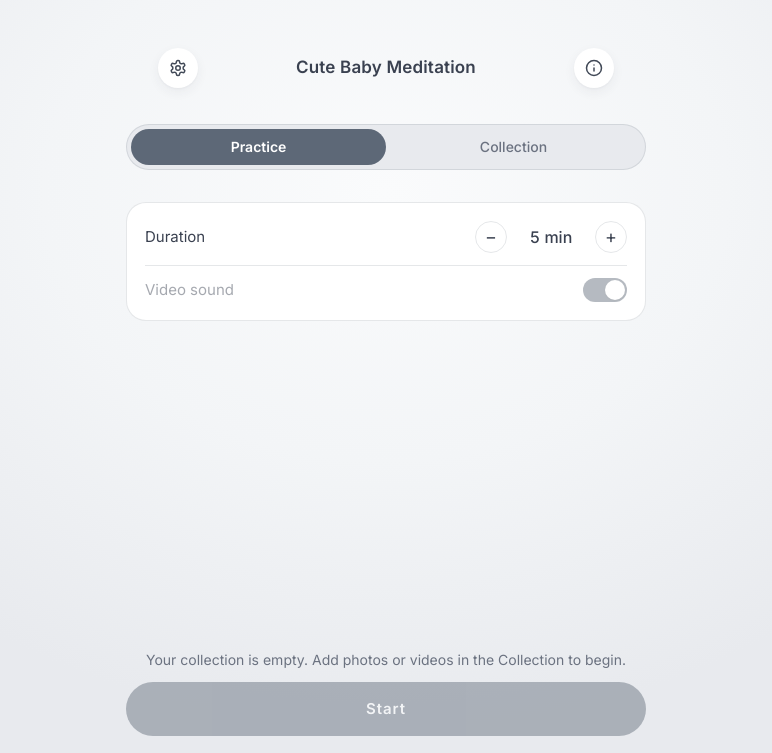
Scenario: App › starts in Practice mode and switches to Collection and back
Check: the element "Duration" is shown, box x1=145 y1=221 x2=627 y2=253
Click the radio button labelled "Collection". click: (514, 147)
box: x1=386 y1=129 x2=641 y2=165
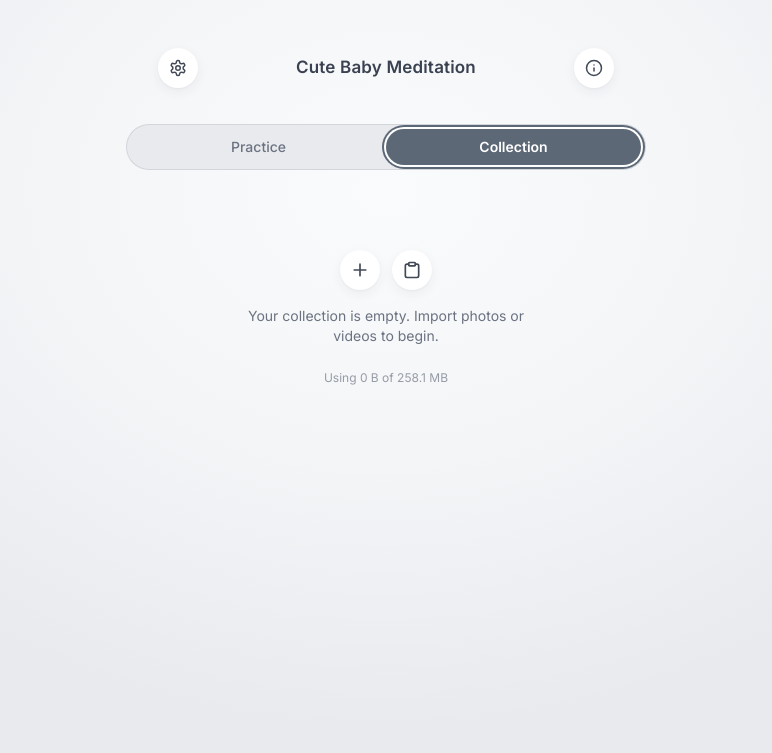
Check: the text "Your collection is empty. Import photos or videos to begin." is shown, box x1=226 y1=306 x2=546 y2=346
Check: the text "Duration" is gone
Click the radio button labelled "Practice". click: (258, 147)
box: x1=131 y1=129 x2=386 y2=165
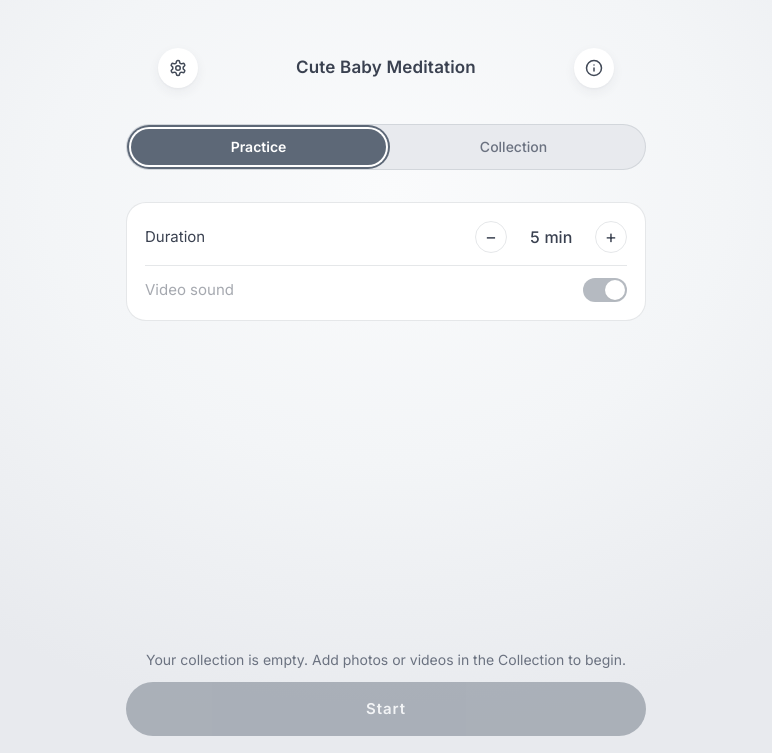
Check: the element "Duration" is shown, box x1=145 y1=221 x2=627 y2=253
